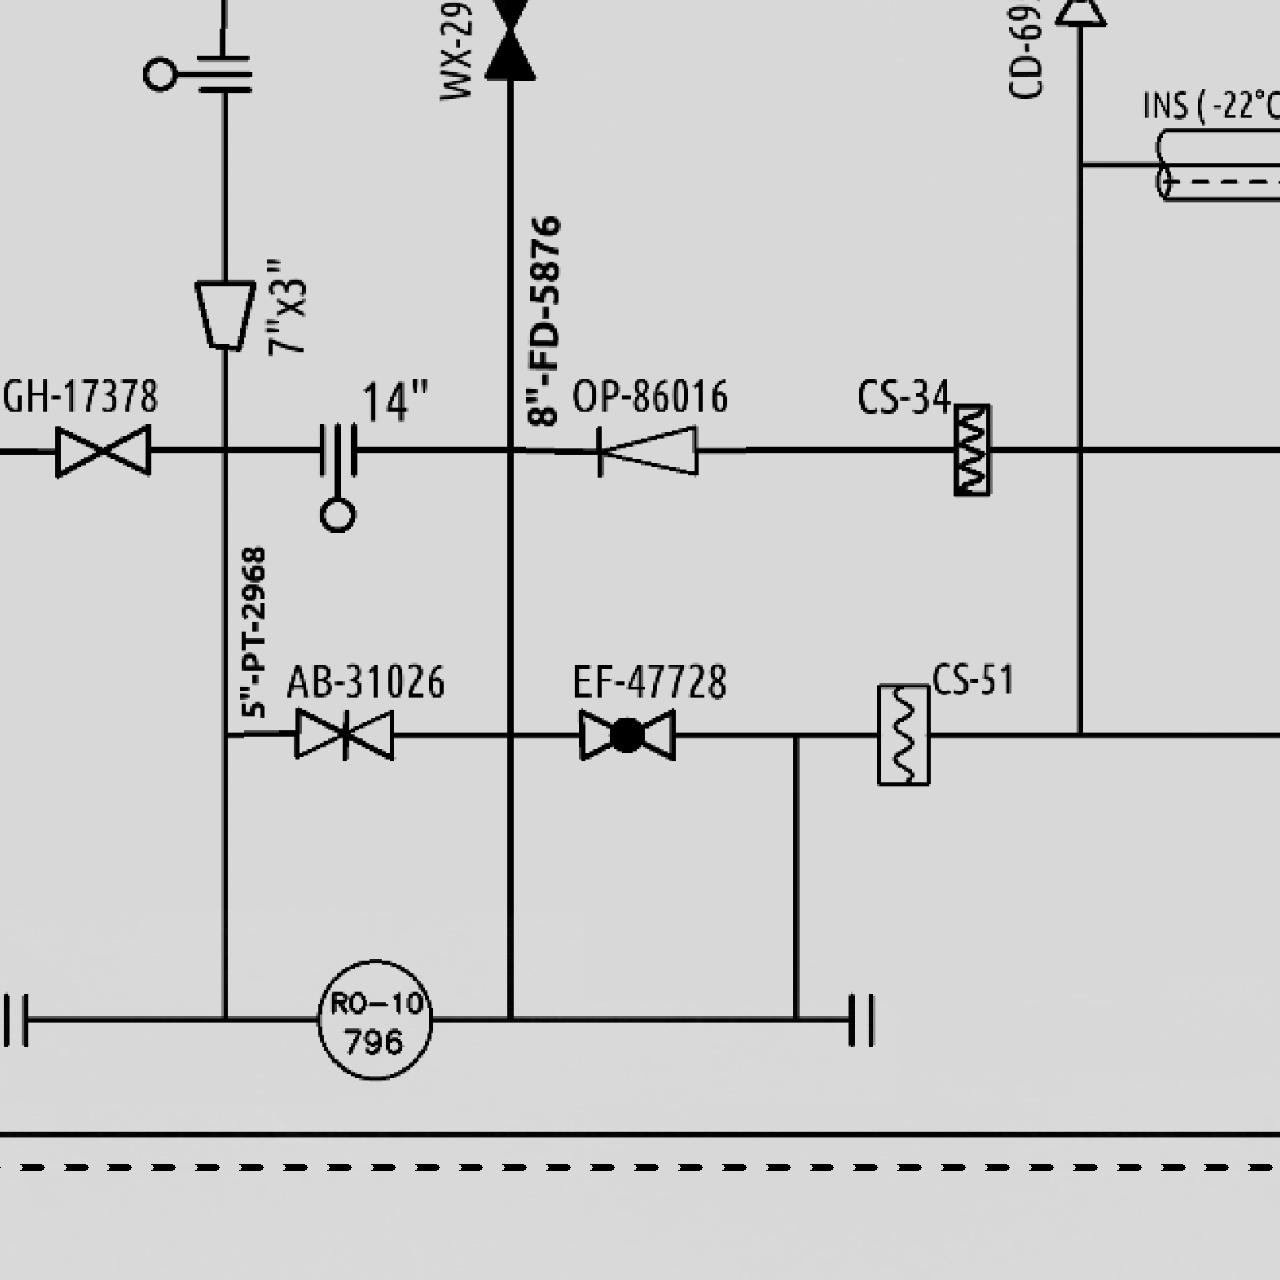Control-Panel: (309, 954, 440, 1084)
